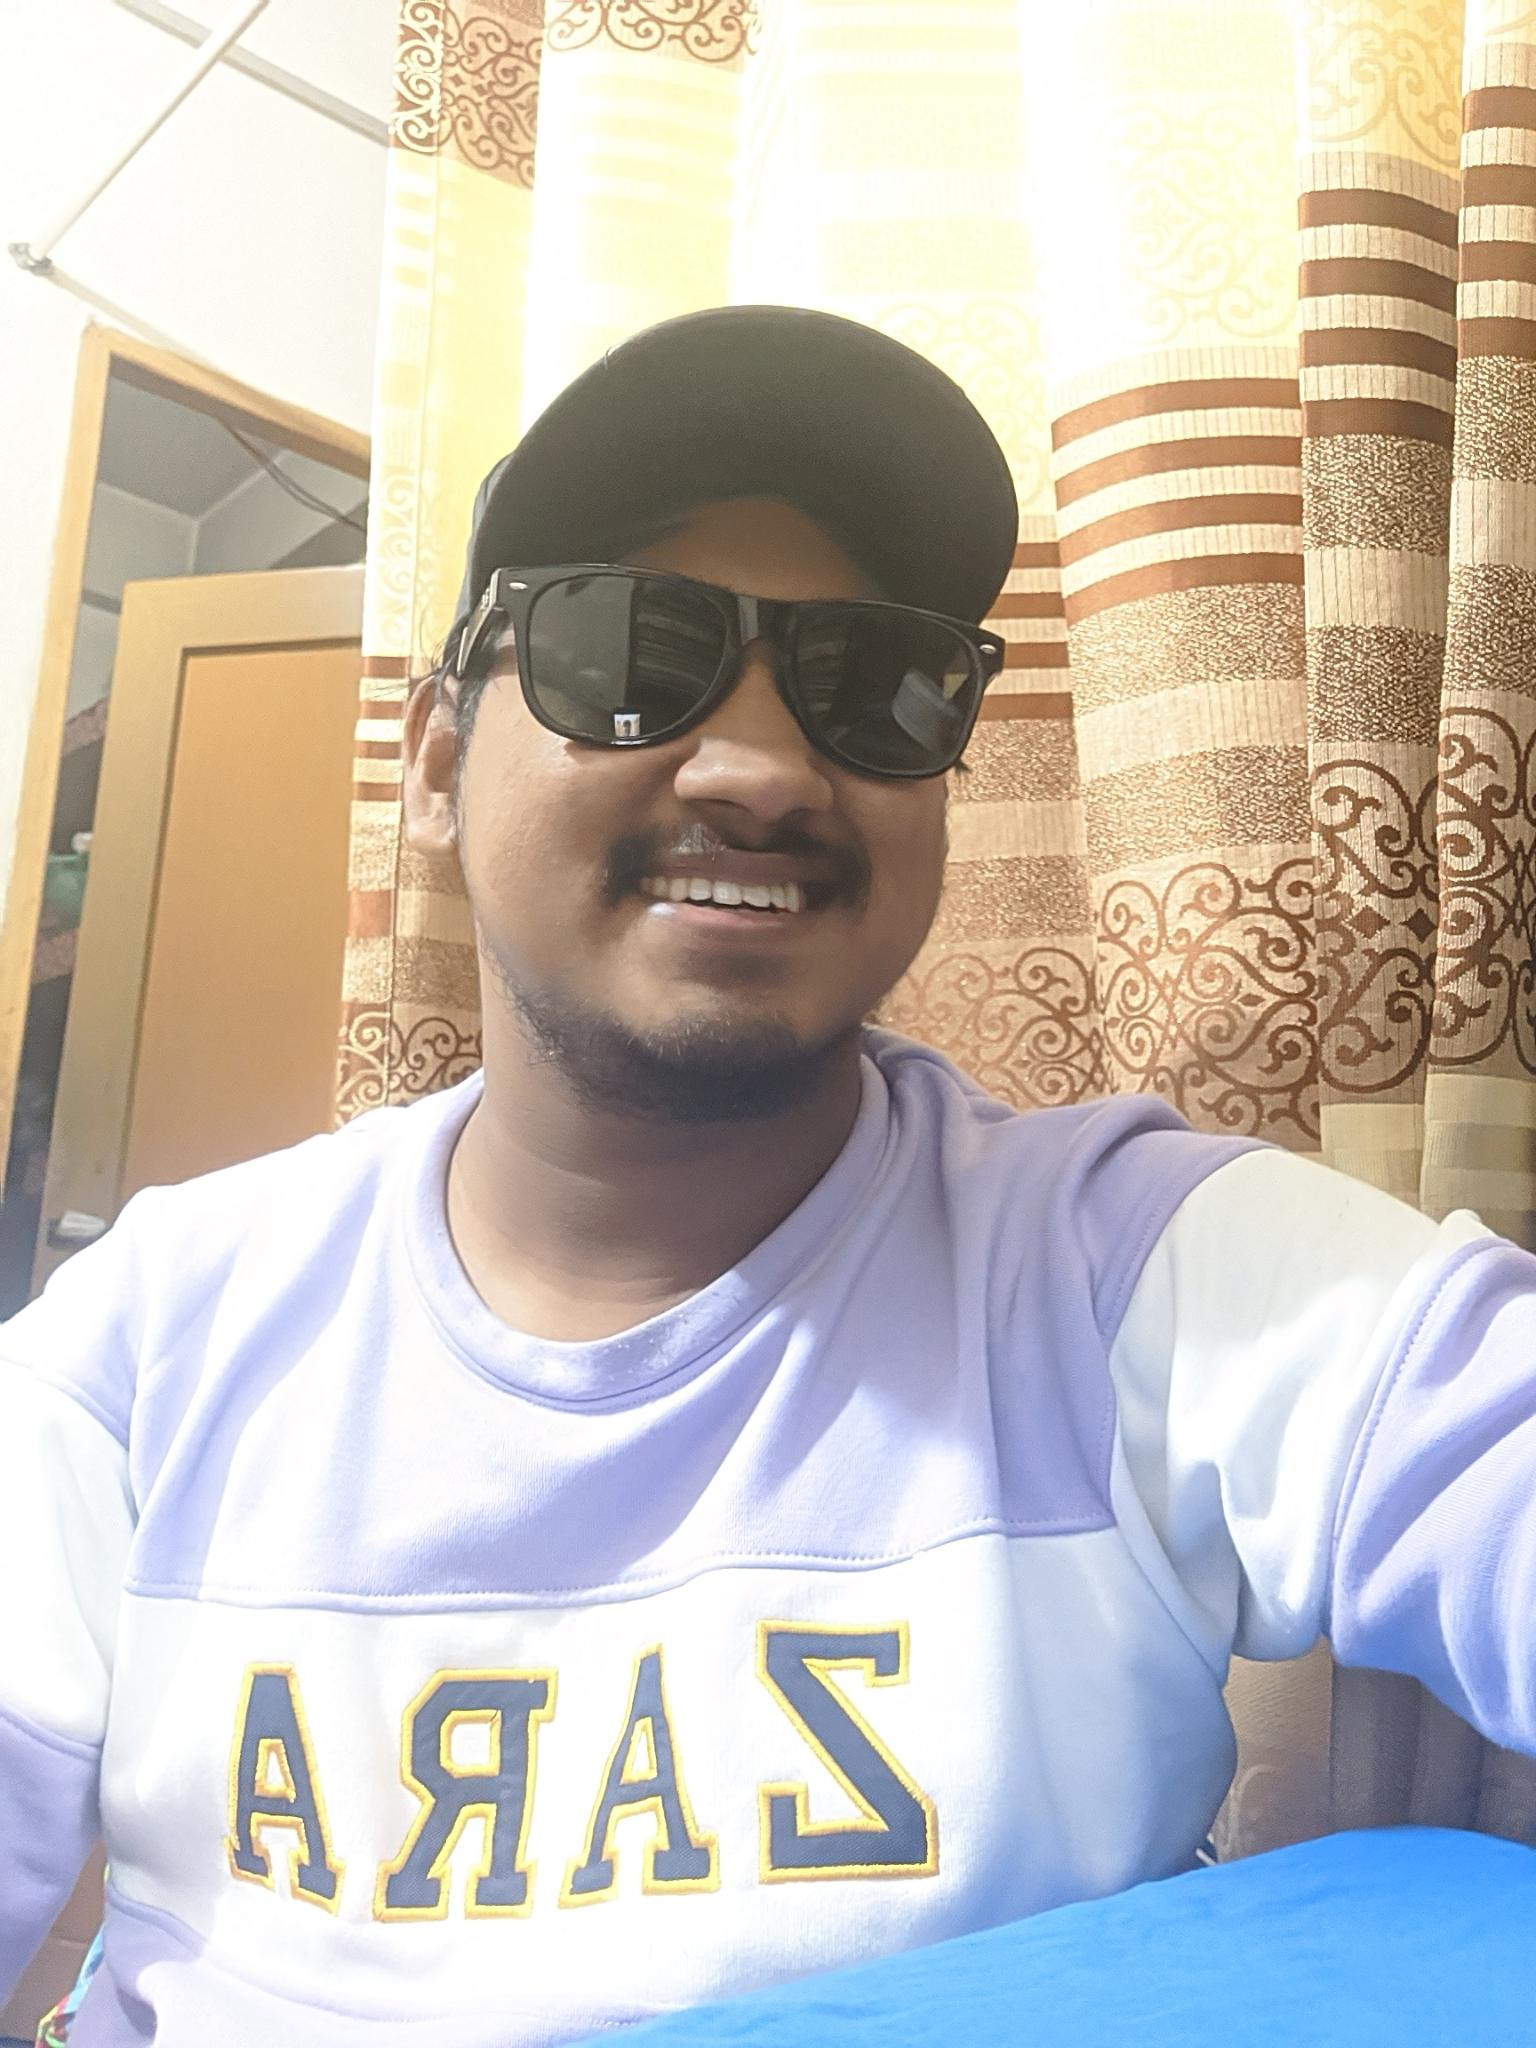Happy: (511, 526, 949, 1039)
